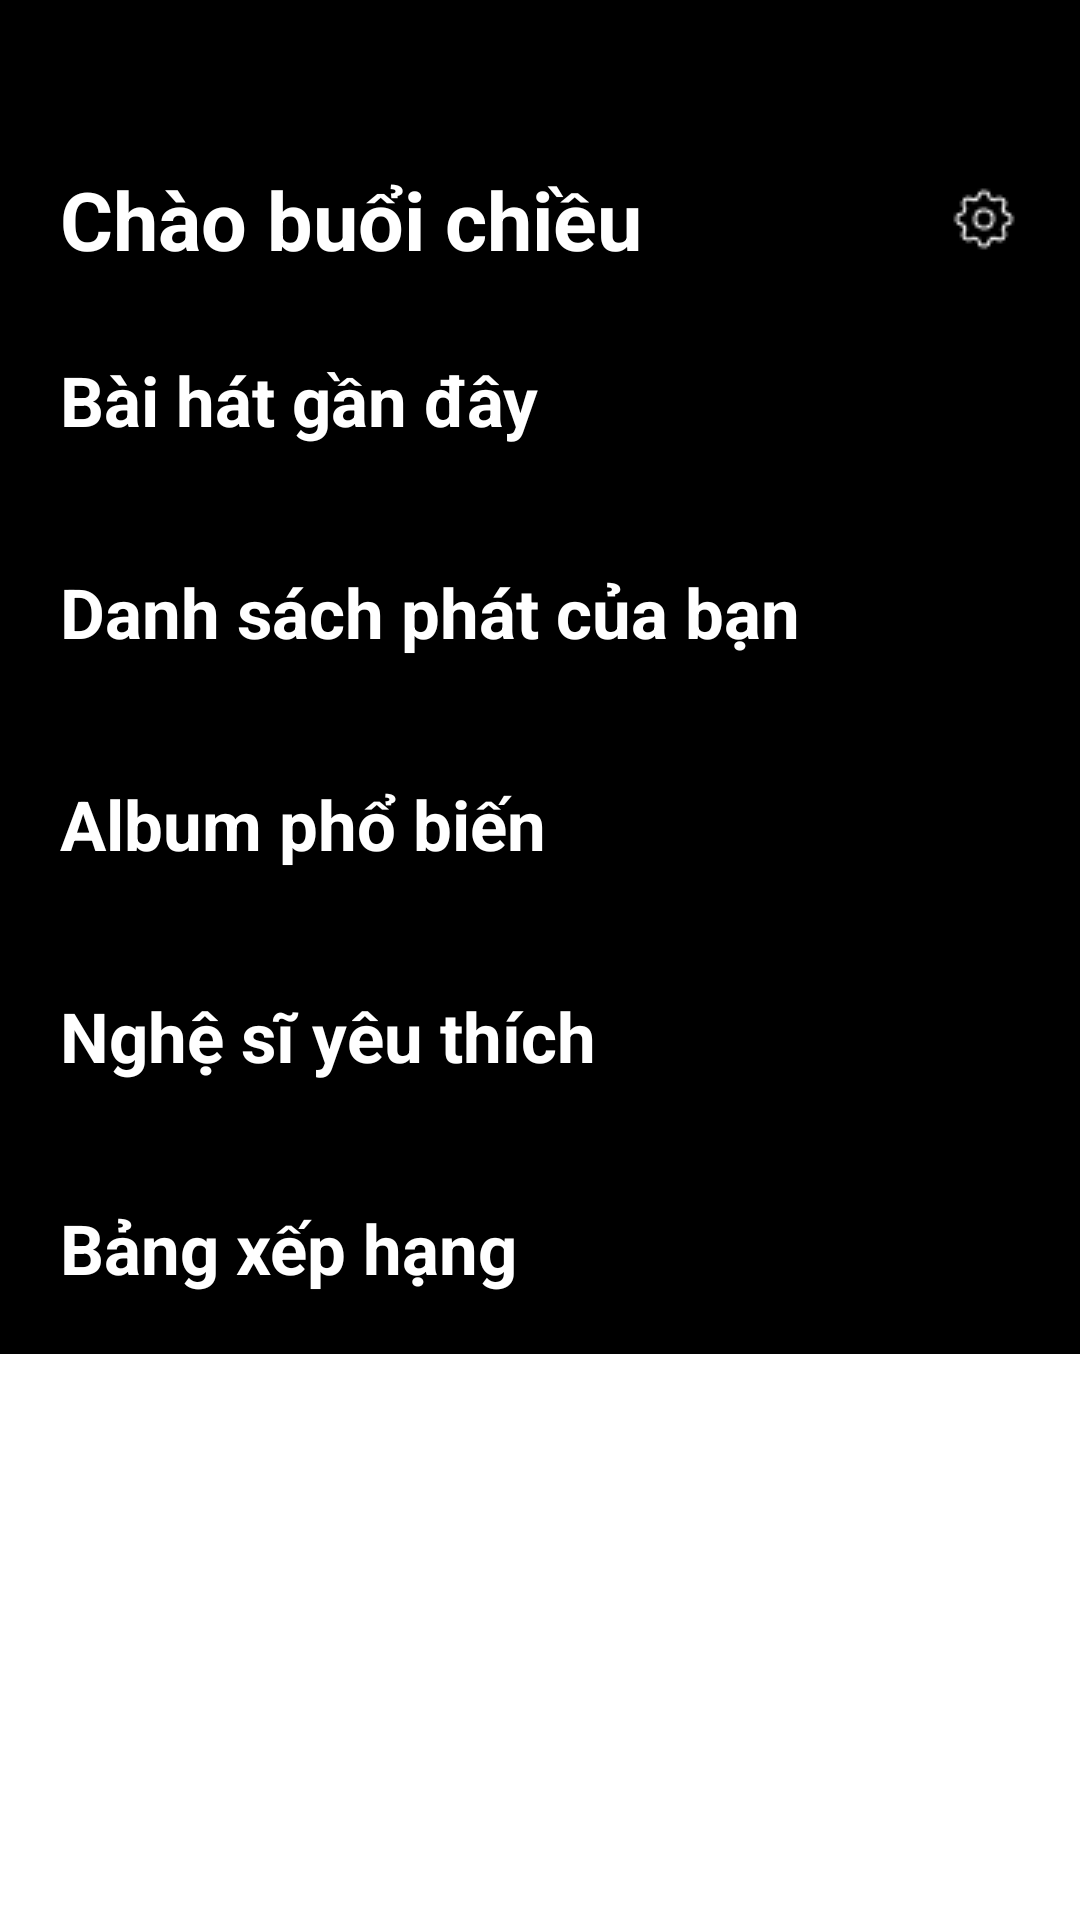

Icon bounding boxes for this 1080×1920 phone screenshot, format detection(x1, y1, x2, y2):
settings: detection(953, 188, 1015, 250)
